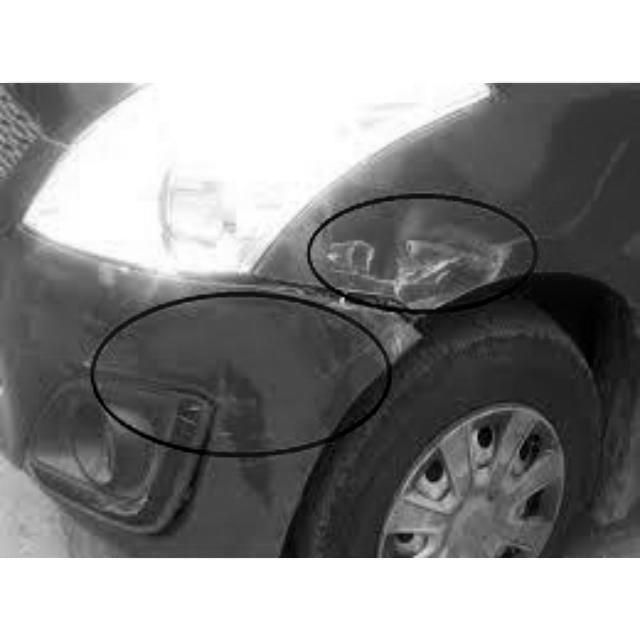fender-dent: (259, 134, 638, 372)
front-bumper-dent: (1, 267, 426, 555)
